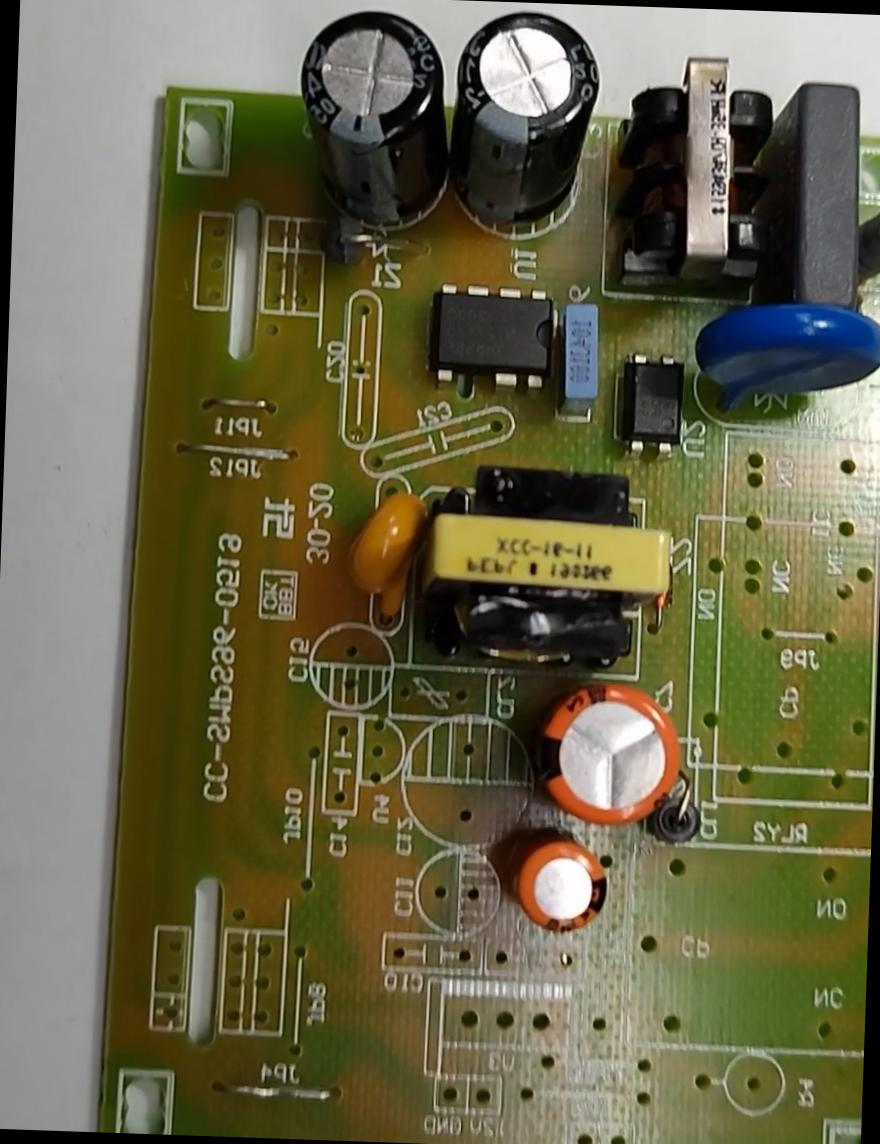Cap1: (528, 671, 696, 827)
Cap2: (499, 828, 628, 950)
Cap3: (447, 6, 612, 218)
Cap4: (294, 0, 456, 219)
MOSFET: (415, 272, 574, 408)
Mov: (695, 292, 879, 401)
Resistor: (844, 191, 879, 280)
Transformer: (411, 452, 676, 676), (602, 38, 791, 296)
